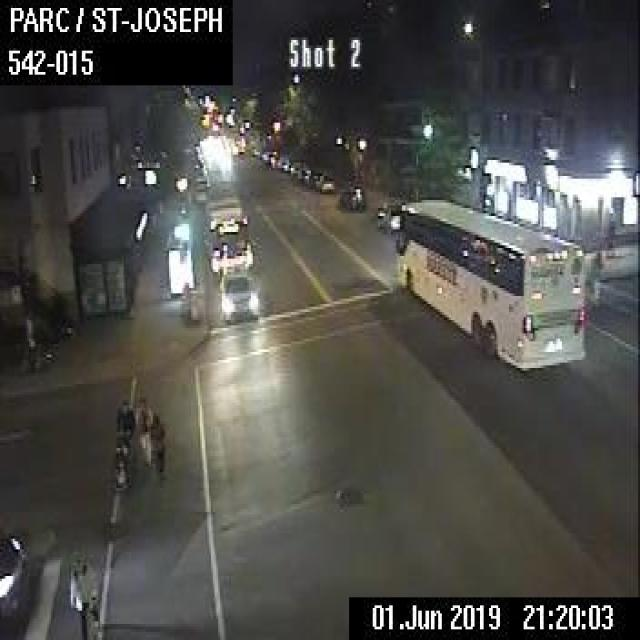bus: (393, 196, 582, 374), (202, 179, 252, 272)
construction: (188, 287, 197, 320)
pedestrian: (67, 552, 96, 637), (112, 398, 132, 486), (134, 396, 151, 466), (150, 411, 165, 474)
vehicle: (0, 528, 31, 632), (218, 270, 256, 320), (376, 199, 398, 232), (338, 184, 362, 210), (314, 174, 334, 192)
